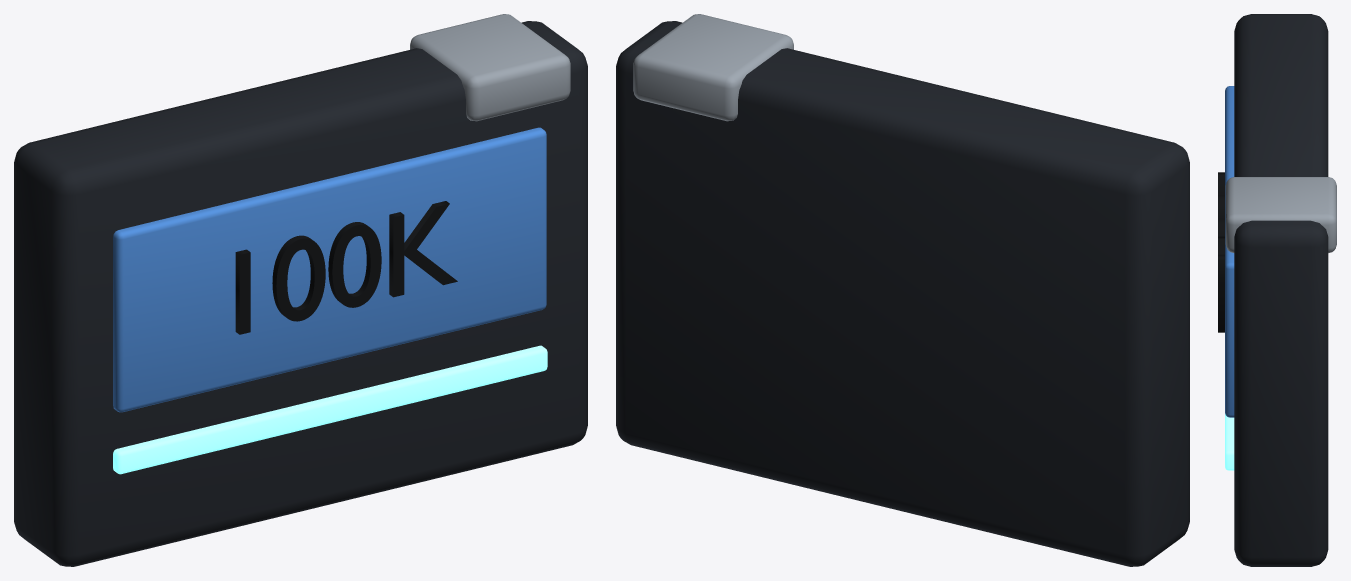
The model's file is rscDisk100k.fbx.
3 views of the same model, side by side, from view 1: azimuth 30°, elevation 25°; view 2: azimuth 150°, elevation 25°; view 3: azimuth 270°, elevation 25° (orthographic). The views are drawn at different scales.
Visible parts, largest first — view 1: rscDisk100k_shell, rscDisk100k_label, rscDisk100k_stripe, rscDisk100k_grip, rscDisk100k_text; view 2: rscDisk100k_shell, rscDisk100k_grip; view 3: rscDisk100k_shell, rscDisk100k_grip, rscDisk100k_label, rscDisk100k_text, rscDisk100k_stripe.
Part boxes in pixels (x1,y1,x2,y2): rscDisk100k_shell: (14, 21, 587, 566); rscDisk100k_label: (113, 127, 546, 412); rscDisk100k_stripe: (113, 345, 547, 474); rscDisk100k_grip: (410, 14, 570, 121); rscDisk100k_text: (235, 201, 457, 334); rscDisk100k_shell: (616, 21, 1189, 566); rscDisk100k_grip: (633, 14, 793, 121); rscDisk100k_shell: (1234, 14, 1328, 566); rscDisk100k_grip: (1225, 177, 1336, 252); rscDisk100k_label: (1225, 86, 1234, 417); rscDisk100k_text: (1218, 172, 1224, 332); rscDisk100k_stripe: (1225, 413, 1234, 470).
Bounding box in the file's own units: 0.62 × 0.445 × 0.139.
